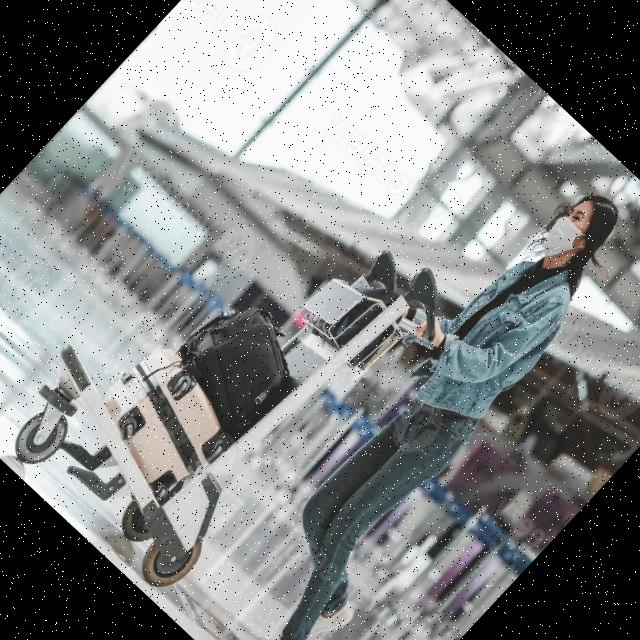Person: (167, 152, 640, 640)
